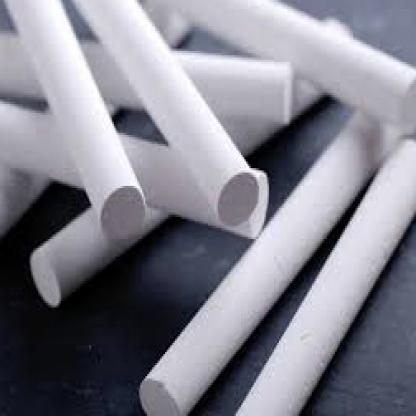Sedimentary_Chalk: (0, 0, 415, 209), (19, 219, 414, 414)
